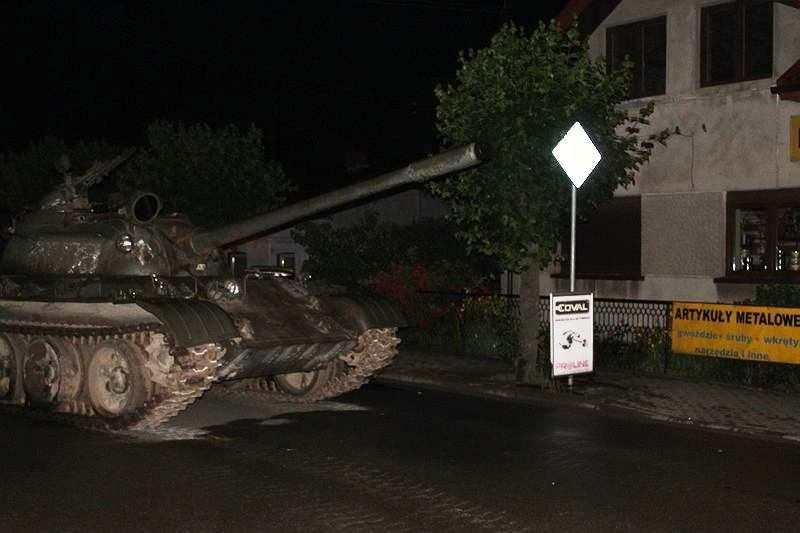tank: (0, 139, 488, 438)
